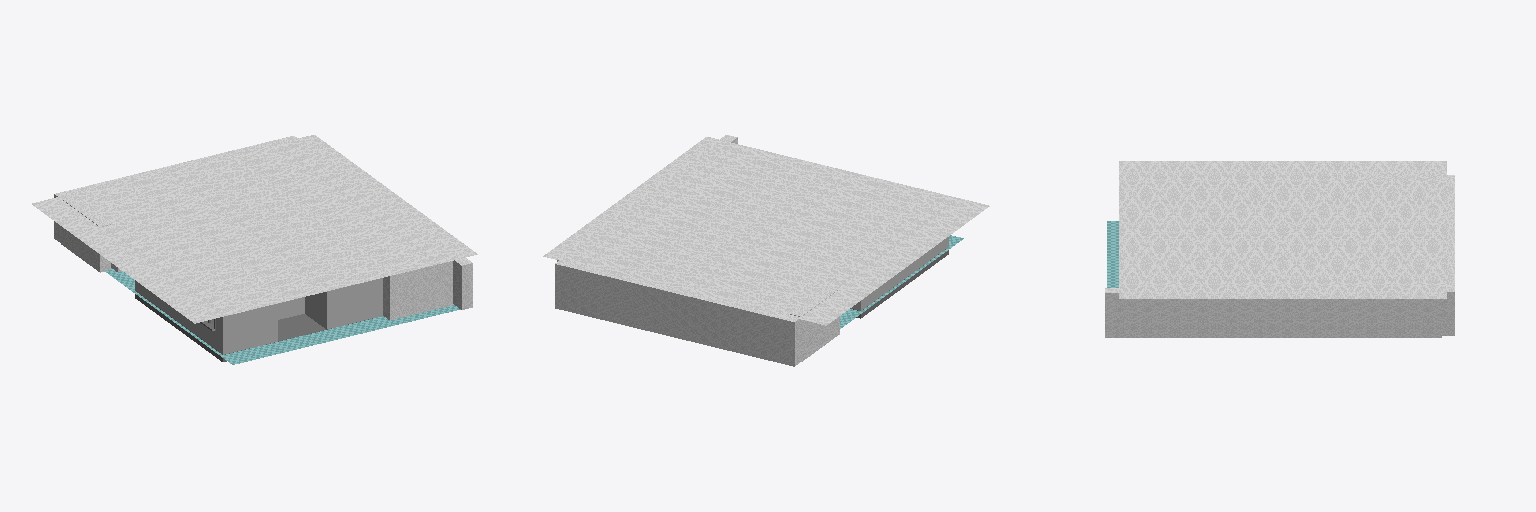
3 views of the same model, side by side, from view 1: azimuth 30°, elevation 25°; view 2: azimuth 150°, elevation 25°; view 3: azimuth 270°, elevation 25° (orthographic).
Visible parts, largest first — view 1: Ceiling, testbuilding, Cube (2), Floor, Cube (1), Cube (3), Cube; view 2: Ceiling, Cube (3), Cube (1), testbuilding, Floor; view 3: Ceiling, Cube, Cube (3), Floor.
Part boxes in pixels (bbox=[...]): Ceiling: bbox=[32, 135, 477, 323]; testbuilding: bbox=[135, 278, 382, 361]; Cube (2): bbox=[383, 261, 452, 319]; Floor: bbox=[105, 268, 460, 364]; Cube (1): bbox=[61, 196, 110, 272]; Cube (3): bbox=[54, 136, 297, 242]; Cube: bbox=[453, 258, 472, 309]; Ceiling: bbox=[543, 137, 989, 325]; Cube (3): bbox=[555, 261, 800, 366]; Cube (1): bbox=[790, 285, 839, 361]; testbuilding: bbox=[850, 237, 948, 318]; Floor: bbox=[840, 235, 963, 328]; Ceiling: bbox=[1119, 161, 1446, 298]; Cube: bbox=[1105, 288, 1441, 337]; Cube (3): bbox=[1442, 175, 1454, 335]; Floor: bbox=[1107, 221, 1118, 287].
Bounding box in the file's own units: 16.7 × 2.96 × 17.86.
8 materials, 3 textured.